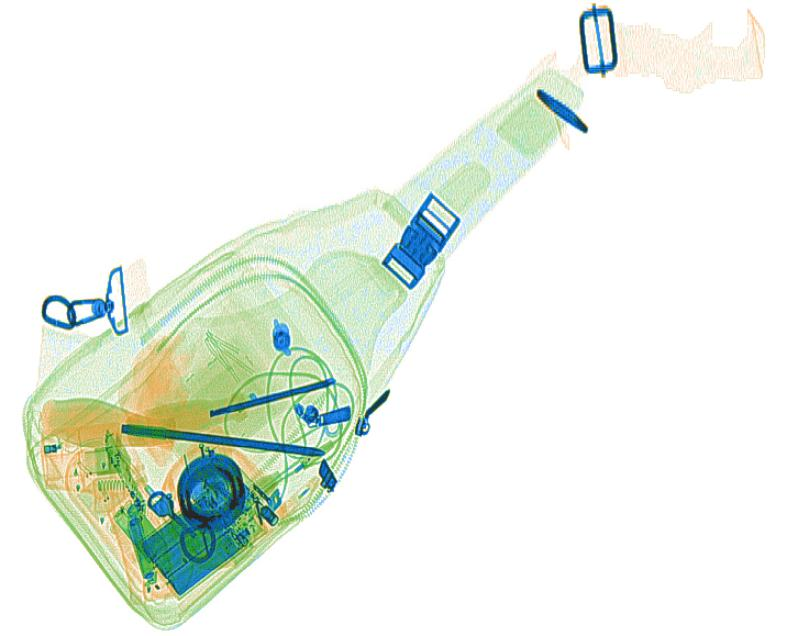battery: (131, 478, 260, 602), (126, 517, 155, 579)
